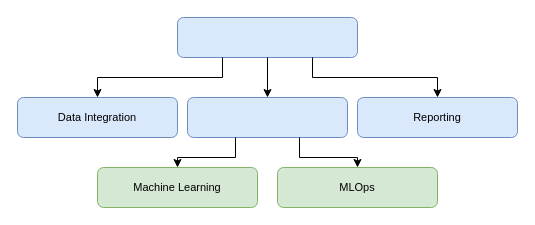
The diagram is 535 pixels wide and 225 high, and some of its shapes have lost their labels. Here are the shapes that lost their labels. From the top down, the centre of each, then its label:
At [267,37]: "Business Intelligence (ATB)".
At [267,117]: "Data Warehouse".
